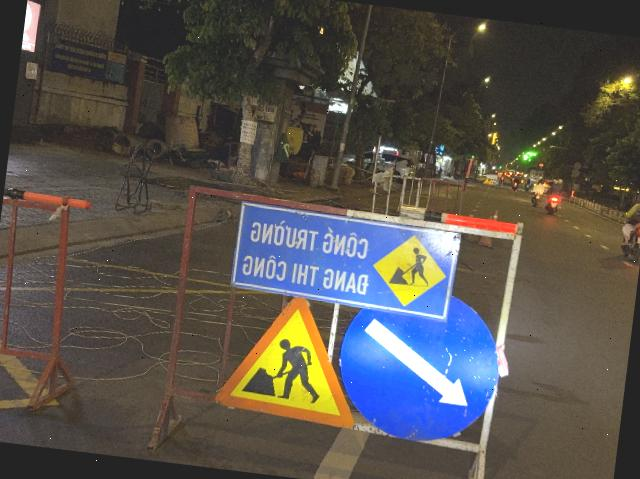cong-truong-dang-thi-cong: (212, 288, 368, 430)
huong-phai-di-vong-chuong-ngai-vat: (330, 280, 506, 450)
